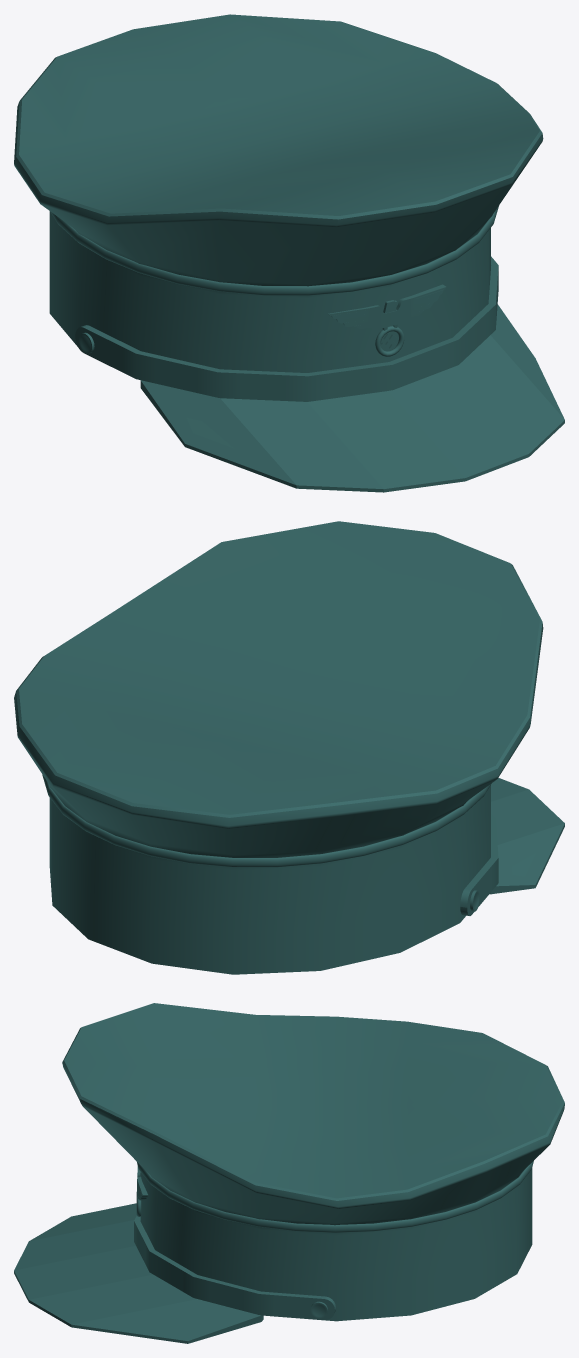
Rendered from hat_low.fbx.
The picture shows the model from 3 angles, top to bottom: view 1: azimuth 30°, elevation 25°; view 2: azimuth 150°, elevation 25°; view 3: azimuth 270°, elevation 25°; orthographic projection. The views are drawn at different scales.
Visible parts, largest first — view 1: hat_03_low, hat_05_low, hat_02_low, hat_01_low; view 2: hat_03_low, hat_02_low, hat_05_low; view 3: hat_03_low, hat_05_low, hat_02_low.
Part boxes in pixels (<box>): hat_03_low: <box>14,14,564,492</box>; hat_05_low: <box>75,256,498,401</box>; hat_02_low: <box>50,206,498,295</box>; hat_01_low: <box>328,284,446,356</box>; hat_03_low: <box>14,521,564,974</box>; hat_02_low: <box>42,774,491,867</box>; hat_05_low: <box>460,814,498,915</box>; hat_03_low: <box>14,1003,564,1343</box>; hat_05_low: <box>134,1216,335,1319</box>; hat_02_low: <box>137,1161,533,1232</box>.
Bounding box in the file's own units: 46.71 × 25.1 × 58.89.
